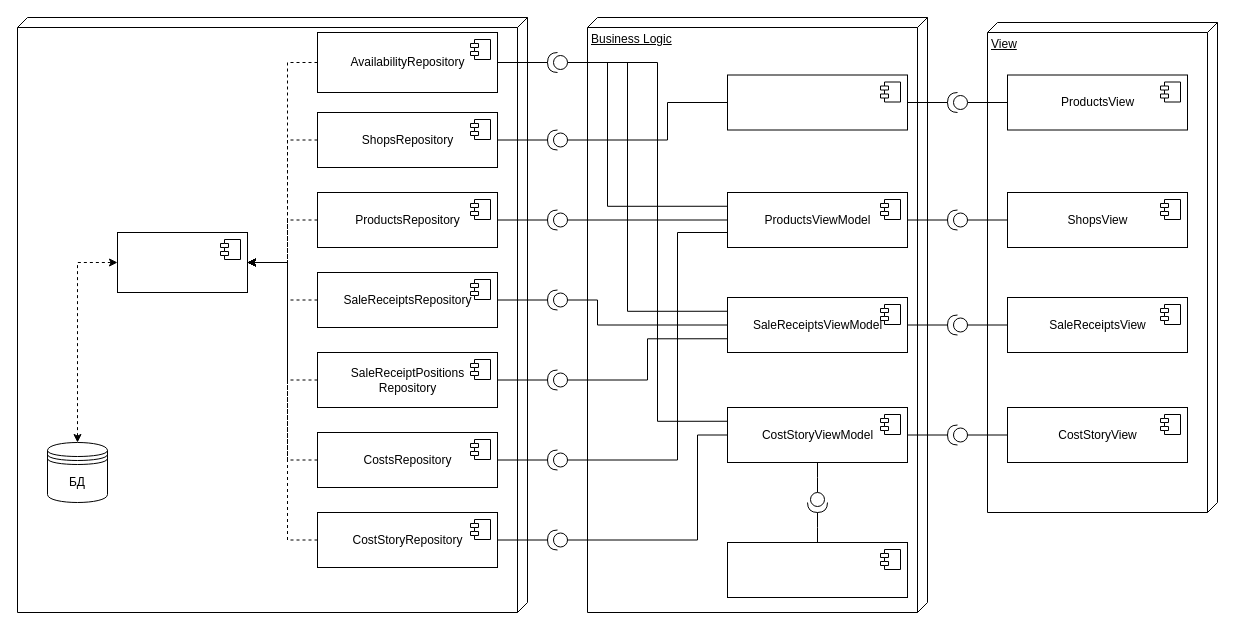
The diagram is 1235 pixels wide and 630 high, and some of its shapes have lost their labels. Here are the shapes that lost their labels. From the top down, the box of each, then its label:
(726, 74, 908, 130): ShopsViewModel
(116, 232, 248, 292): DbContext
(16, 16, 528, 612): Data Access
(726, 542, 908, 598): TrendLine
